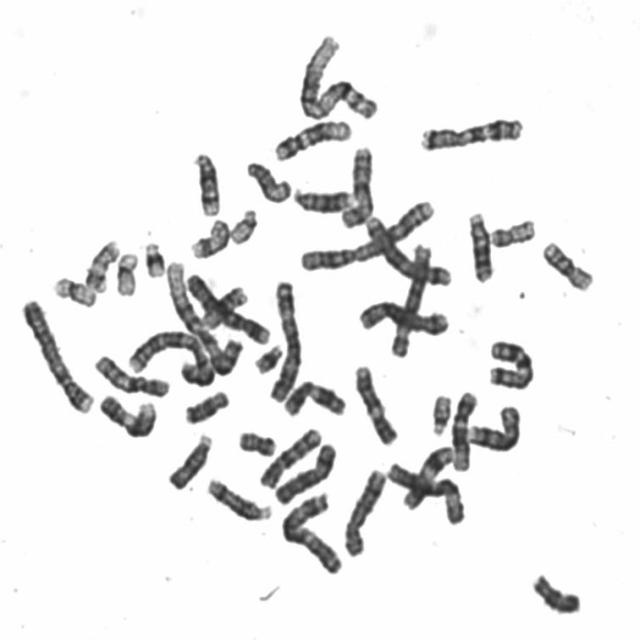A1: (164, 261, 246, 378), (296, 34, 380, 122)
A2: (298, 198, 435, 273), (128, 330, 215, 389)
A3: (281, 491, 342, 574), (267, 279, 301, 405)
B4: (20, 298, 95, 415), (185, 273, 270, 345)
B5: (364, 215, 453, 288), (357, 300, 451, 336)
C10: (259, 426, 323, 490), (93, 352, 170, 398)
C11: (402, 446, 454, 512), (282, 381, 347, 420)
C12: (273, 118, 355, 162), (451, 390, 478, 472)
C6: (385, 460, 467, 527), (388, 242, 432, 359)
C7: (417, 116, 525, 152), (482, 340, 538, 392)
C8: (341, 468, 386, 558), (466, 405, 523, 454)
C9: (351, 365, 400, 447), (98, 392, 158, 440)
D13: (468, 211, 494, 285), (290, 185, 355, 214)
D14: (205, 478, 273, 522), (190, 150, 222, 218)
D15: (167, 433, 213, 493), (244, 162, 292, 204)
E16: (541, 239, 595, 293), (200, 284, 252, 328)
E17: (84, 238, 120, 296), (189, 218, 230, 260)
E18: (529, 574, 583, 616), (184, 390, 231, 426)
F19: (54, 276, 96, 310), (115, 252, 139, 300)
F20: (490, 218, 536, 248), (238, 431, 276, 458)
G21: (253, 344, 284, 376), (142, 243, 167, 279)
G22: (228, 208, 260, 245), (425, 394, 452, 436)
X: (272, 442, 337, 507), (340, 145, 374, 230)
